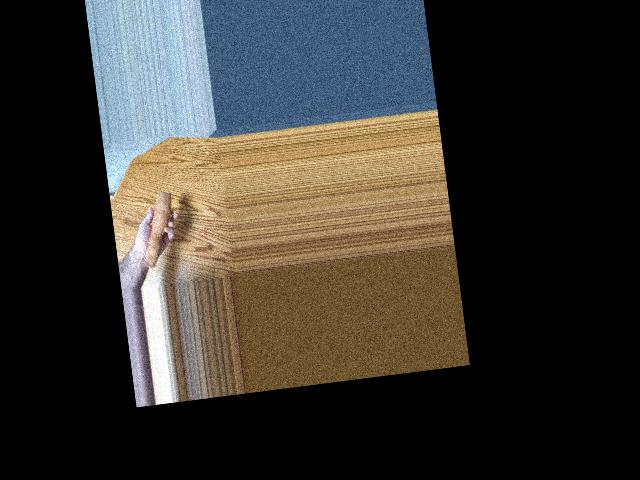sweet_potato: (136, 190, 181, 267)
